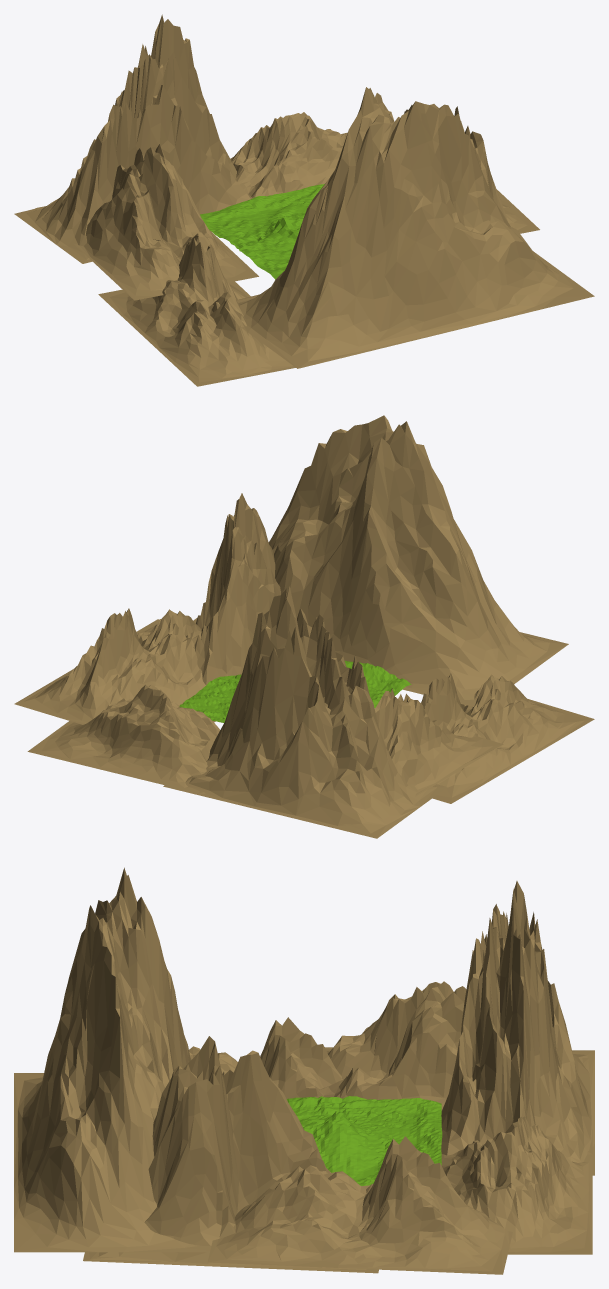
File: landscape2.obj
3 renders of one model, top to bottom at view 1: azimuth 30°, elevation 25°; view 2: azimuth 150°, elevation 25°; view 3: azimuth 270°, elevation 25°, orthographic. The views are drawn at different scales.
Bounding box in the file's own units: 1360 × 810 × 1370.
